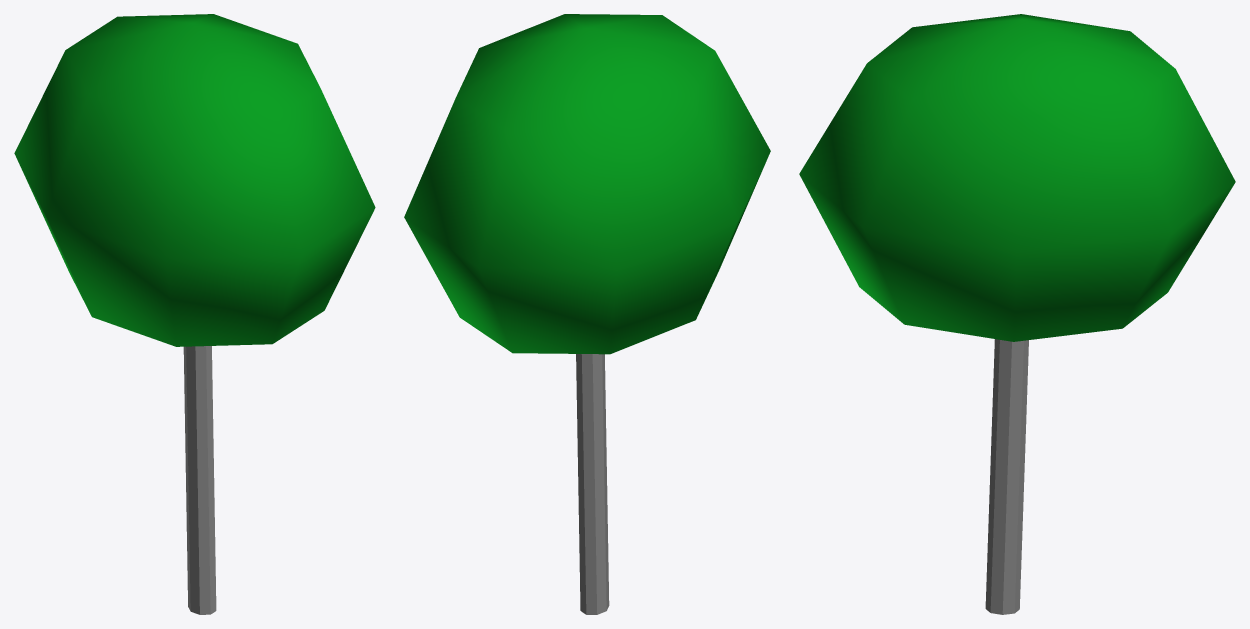
File: MOD_BalloonC.FBX
The picture shows the model from 3 angles, left to right: view 1: azimuth 30°, elevation 25°; view 2: azimuth 150°, elevation 25°; view 3: azimuth 270°, elevation 25°; orthographic projection.
Parts seen in each view (by area): view 1: Object004; view 2: Object004; view 3: Object004.
Boxes of the visible parts, x1,y1,x2,y2 form: Object004: (14,14,375,614); Object004: (404,14,770,614); Object004: (799,14,1235,614).
Bounding box in the file's own units: 18.5 × 34.48 × 23.14.
